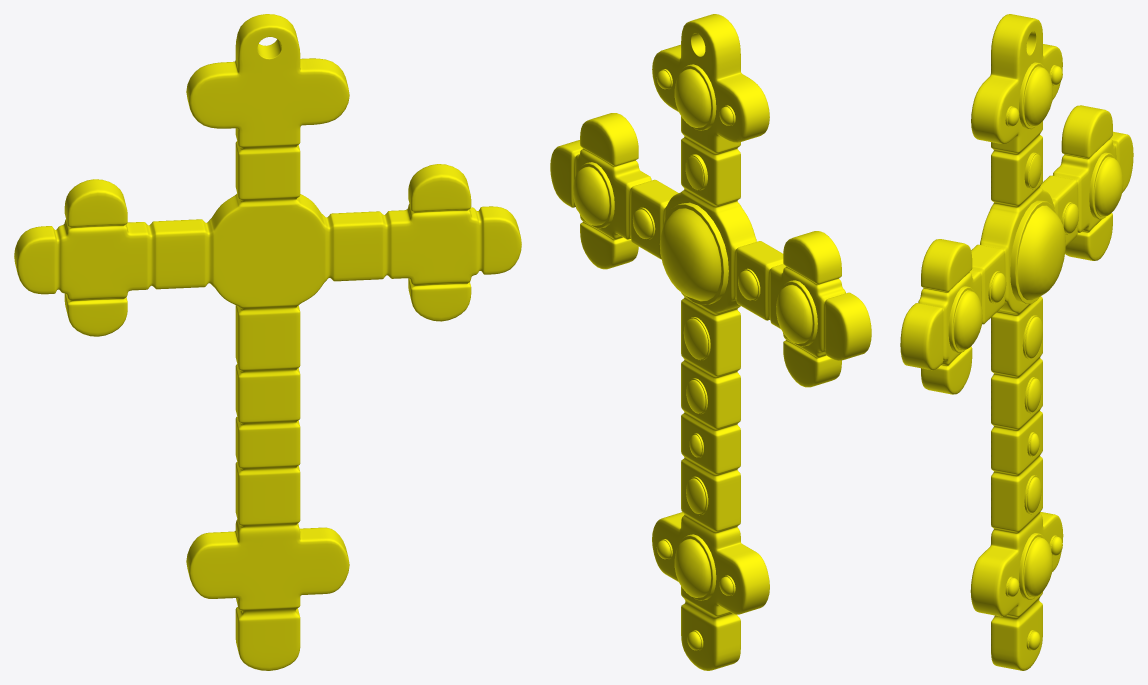
File: 基督教.gltf
3 renders of one model, left to right at view 1: azimuth 30°, elevation 25°; view 2: azimuth 150°, elevation 25°; view 3: azimuth 270°, elevation 25°, orthographic.
Parts seen in each view (by area): view 1: node_18364_Christianity_Cross_V1_-4822; view 2: node_18364_Christianity_Cross_V1_-4822; view 3: node_18364_Christianity_Cross_V1_-4822.
Part boxes in pixels (x1,y1,x2,y2): node_18364_Christianity_Cross_V1_-4822: (14,14,521,670); node_18364_Christianity_Cross_V1_-4822: (550,14,871,670); node_18364_Christianity_Cross_V1_-4822: (900,14,1133,670).
Bounding box in the file's own units: 3.98 × 5.96 × 1.95.
